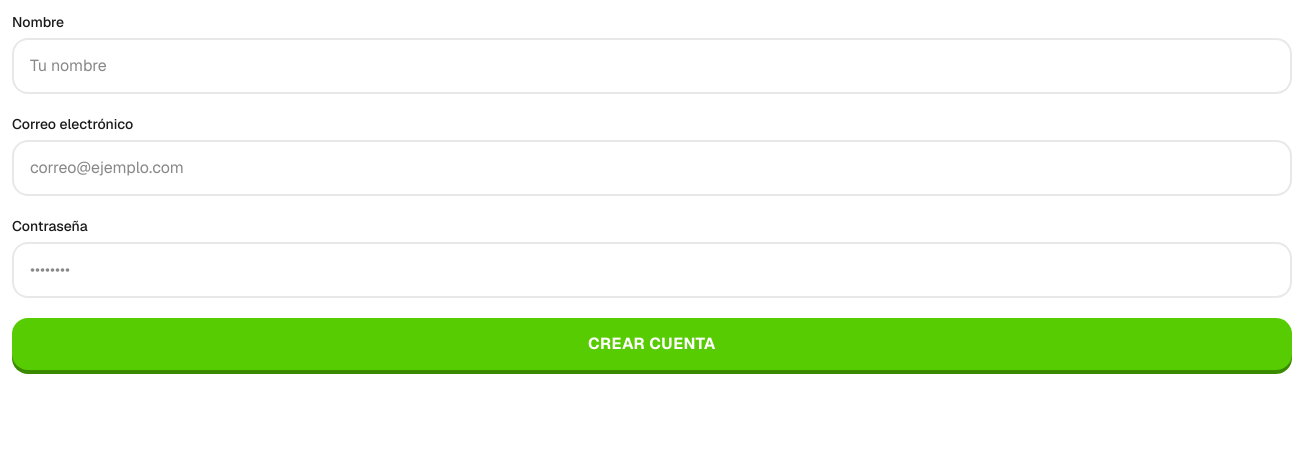
AuthForm - Register mode › muestra error si el registro falla
Type "Test User" into the field labelled "Nombre" at (652, 66), box [12,38,1292,94]
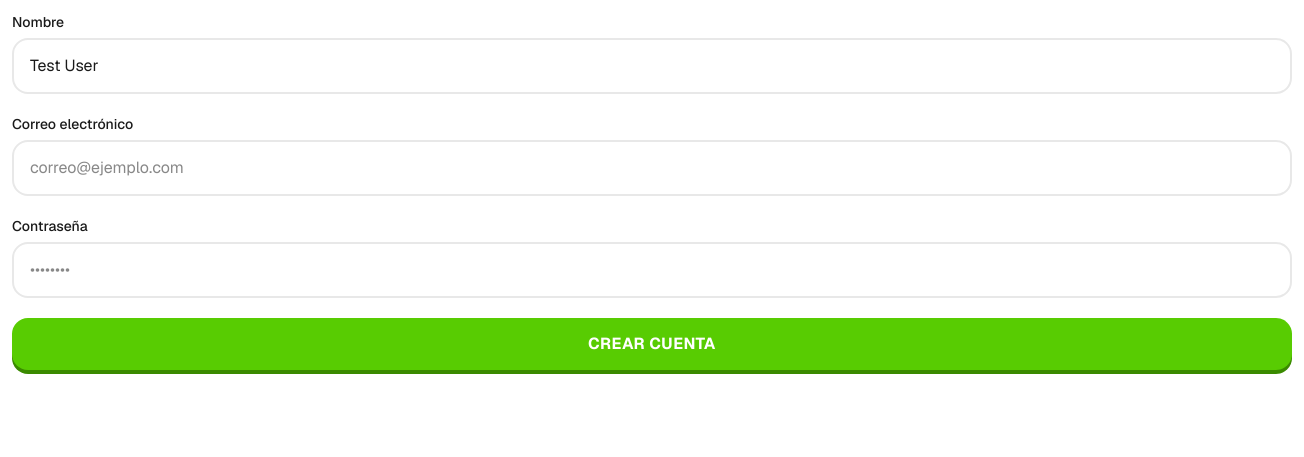
Type "exists@example.com" into the field labelled "Correo electrónico" at (652, 168), box [12,140,1292,196]
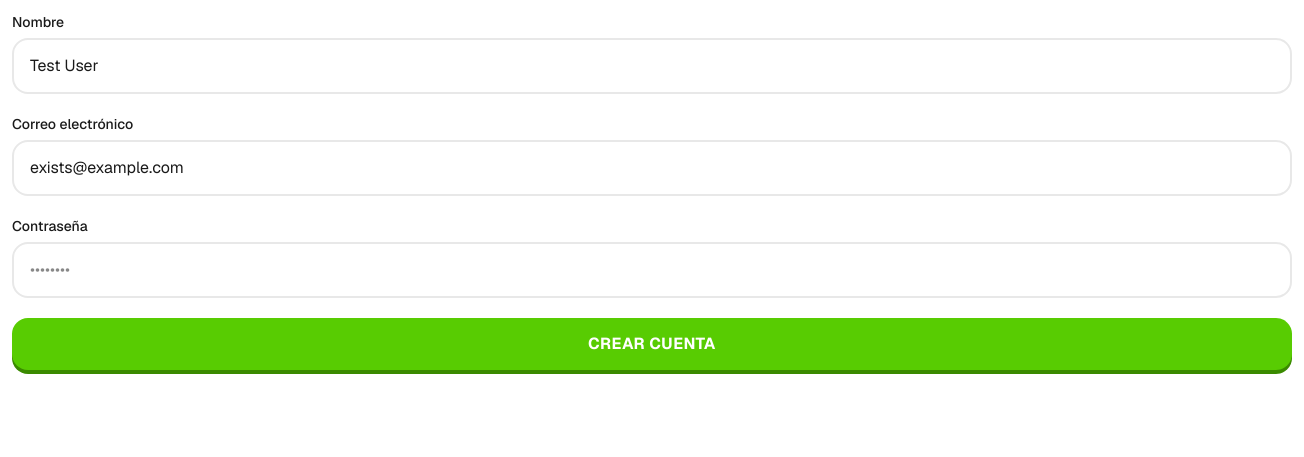
Type "password123" into the password field labelled "Contraseña" at (652, 270), box [12,242,1292,298]
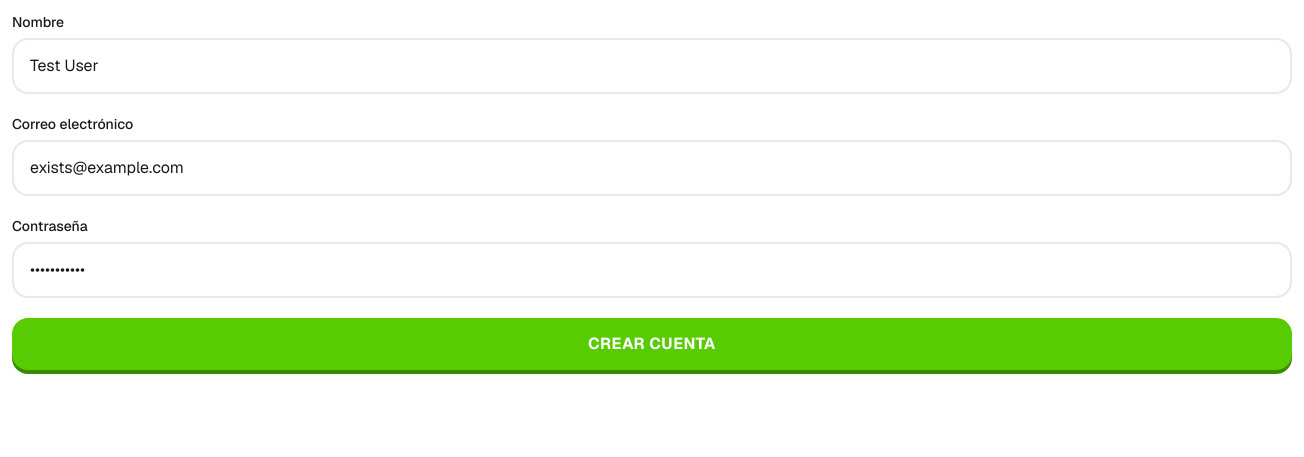
Click the button "Crear cuenta" at (652, 344), box [12,318,1292,370]
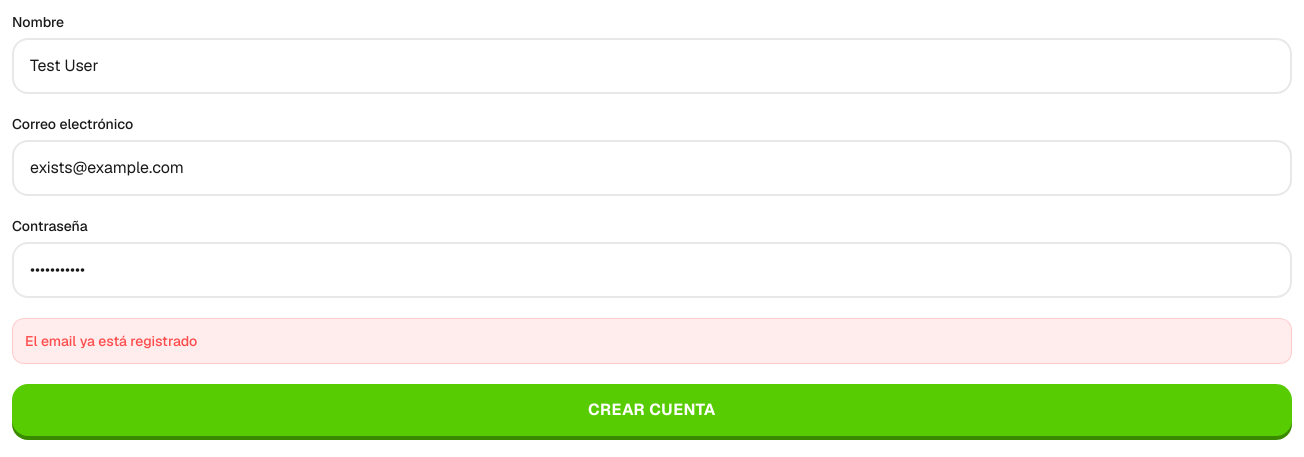
Check: the text "El email ya está registrado" is shown, box [25,332,197,350]
